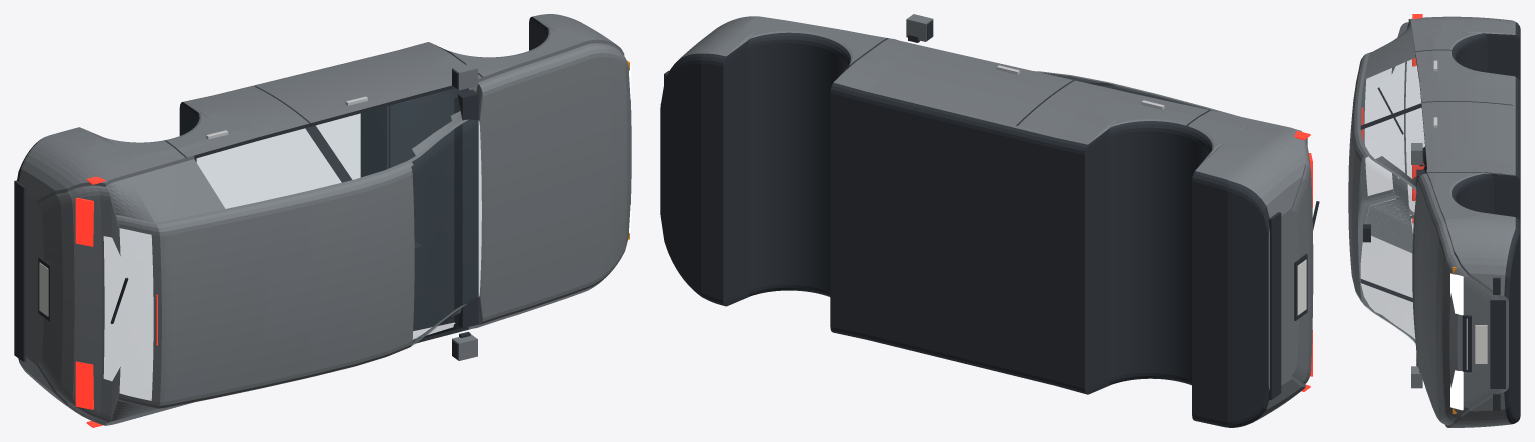
The model's file is vehicle.glb.
3 renders of one model, left to right at view 1: azimuth 30°, elevation 25°; view 2: azimuth 150°, elevation 25°; view 3: azimuth 270°, elevation 25°, orthographic. The views are drawn at different scales.
Parts seen in each view (by area): view 1: body_paint_visual, body_glass_visual, dashboard_visual, firewall_visual, body_black_visual, rear_lower_visual, dashboard_lower_visual, tail_light_left_visual, tail_light_right_visual; view 2: body_black_visual, body_paint_visual, rear_lower_visual; view 3: body_paint_visual, body_glass_visual, body_black_visual, grille_lower_visual, grille_upper_visual, front_plate_visual, headlight_left_visual, headlight_right_visual, mirror_left_visual, mirror_right_visual.
Boxes of the visible parts, box(x1,y1,x2,y2) form: body_paint_visual: box(19, 14, 631, 425); body_glass_visual: box(104, 94, 481, 400); dashboard_visual: box(388, 94, 454, 331); firewall_visual: box(454, 89, 478, 328); body_black_visual: box(17, 17, 548, 364); rear_lower_visual: box(14, 180, 26, 361); dashboard_lower_visual: box(360, 106, 388, 177); tail_light_left_visual: box(75, 197, 93, 246); tail_light_right_visual: box(75, 361, 93, 409); body_black_visual: box(660, 32, 1269, 427); body_paint_visual: box(679, 16, 1313, 422); rear_lower_visual: box(1268, 212, 1281, 399); body_paint_visual: box(1348, 16, 1515, 427); body_glass_visual: box(1358, 58, 1424, 343); body_black_visual: box(1360, 22, 1520, 423); grille_lower_visual: box(1490, 299, 1505, 388); grille_upper_visual: box(1462, 315, 1471, 372); front_plate_visual: box(1475, 325, 1487, 363); headlight_left_visual: box(1450, 273, 1463, 315); headlight_right_visual: box(1450, 370, 1463, 410); mirror_left_visual: box(1411, 143, 1422, 164); mirror_right_visual: box(1411, 366, 1422, 388).
Size of the model in its own units: 4.41 by 2.05 by 1.35.
